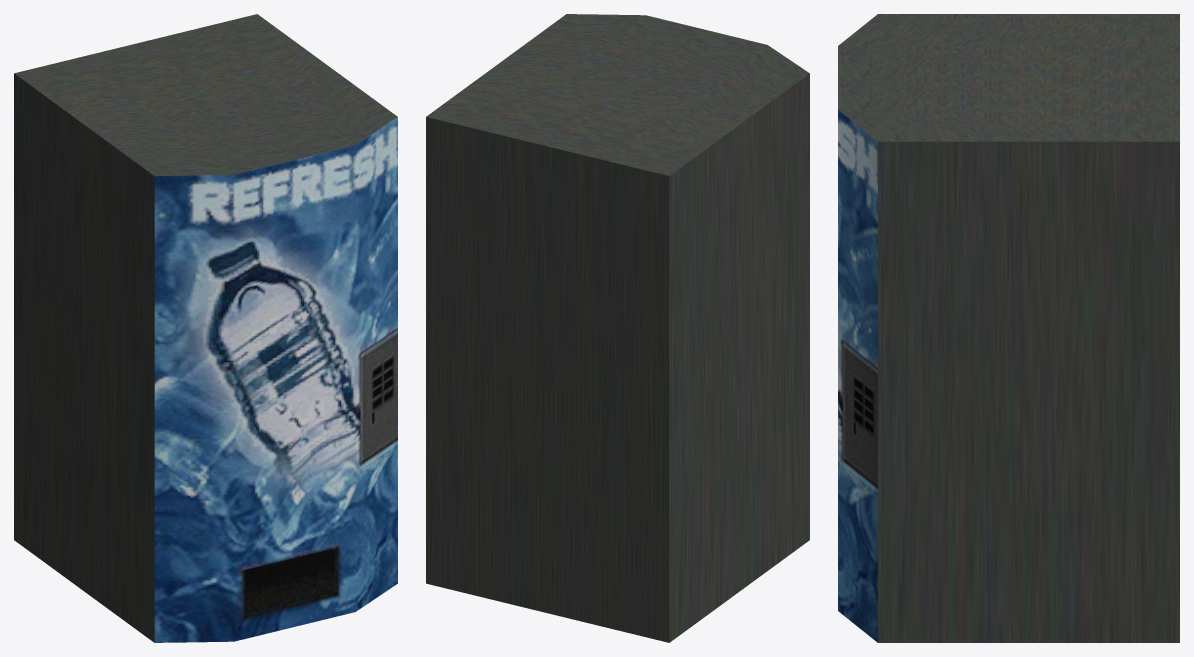
File: Vending.glb
3 views of the same model, side by side, from view 1: azimuth 30°, elevation 25°; view 2: azimuth 150°, elevation 25°; view 3: azimuth 270°, elevation 25° (orthographic). The views are drawn at different scales.
Visible parts, largest first — view 1: Cube; view 2: Cube; view 3: Cube.
Boxes of the visible parts, x1,y1,x2,y2 form: Cube: (14, 14, 397, 642); Cube: (426, 14, 809, 642); Cube: (838, 14, 1179, 642).
Bounding box in the file's own units: 2 × 3.67 × 2.26.
Materials: 1 (1 with a texture image).
